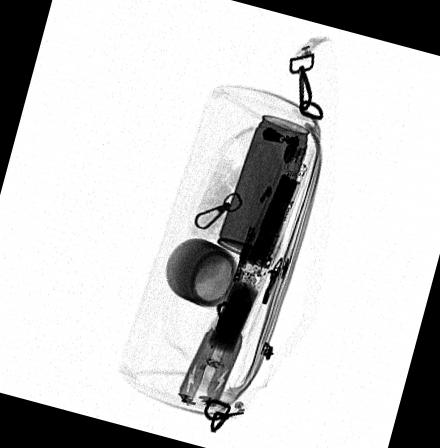Baton: (175, 158, 308, 410)
